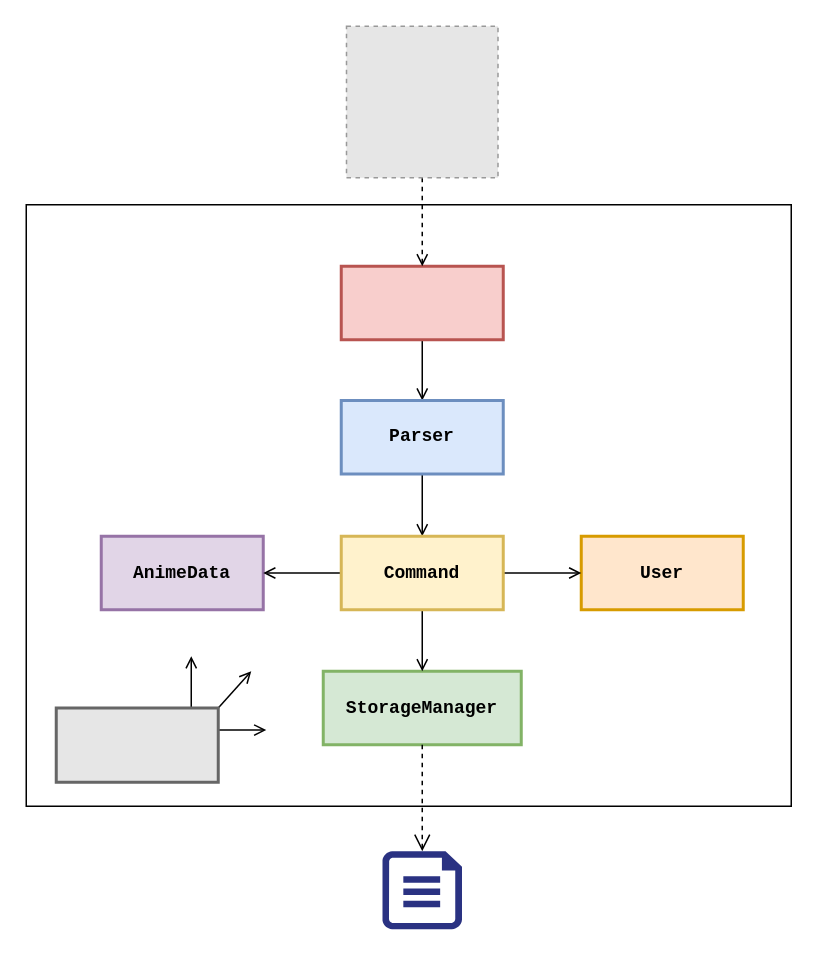
This 818x956 diagram has some shape labels left out. Grey dashed boxes stand in for pictures. Each missing label, with the centre of its shape:
Main: the point at 136,744
Ui: the point at 421,302
